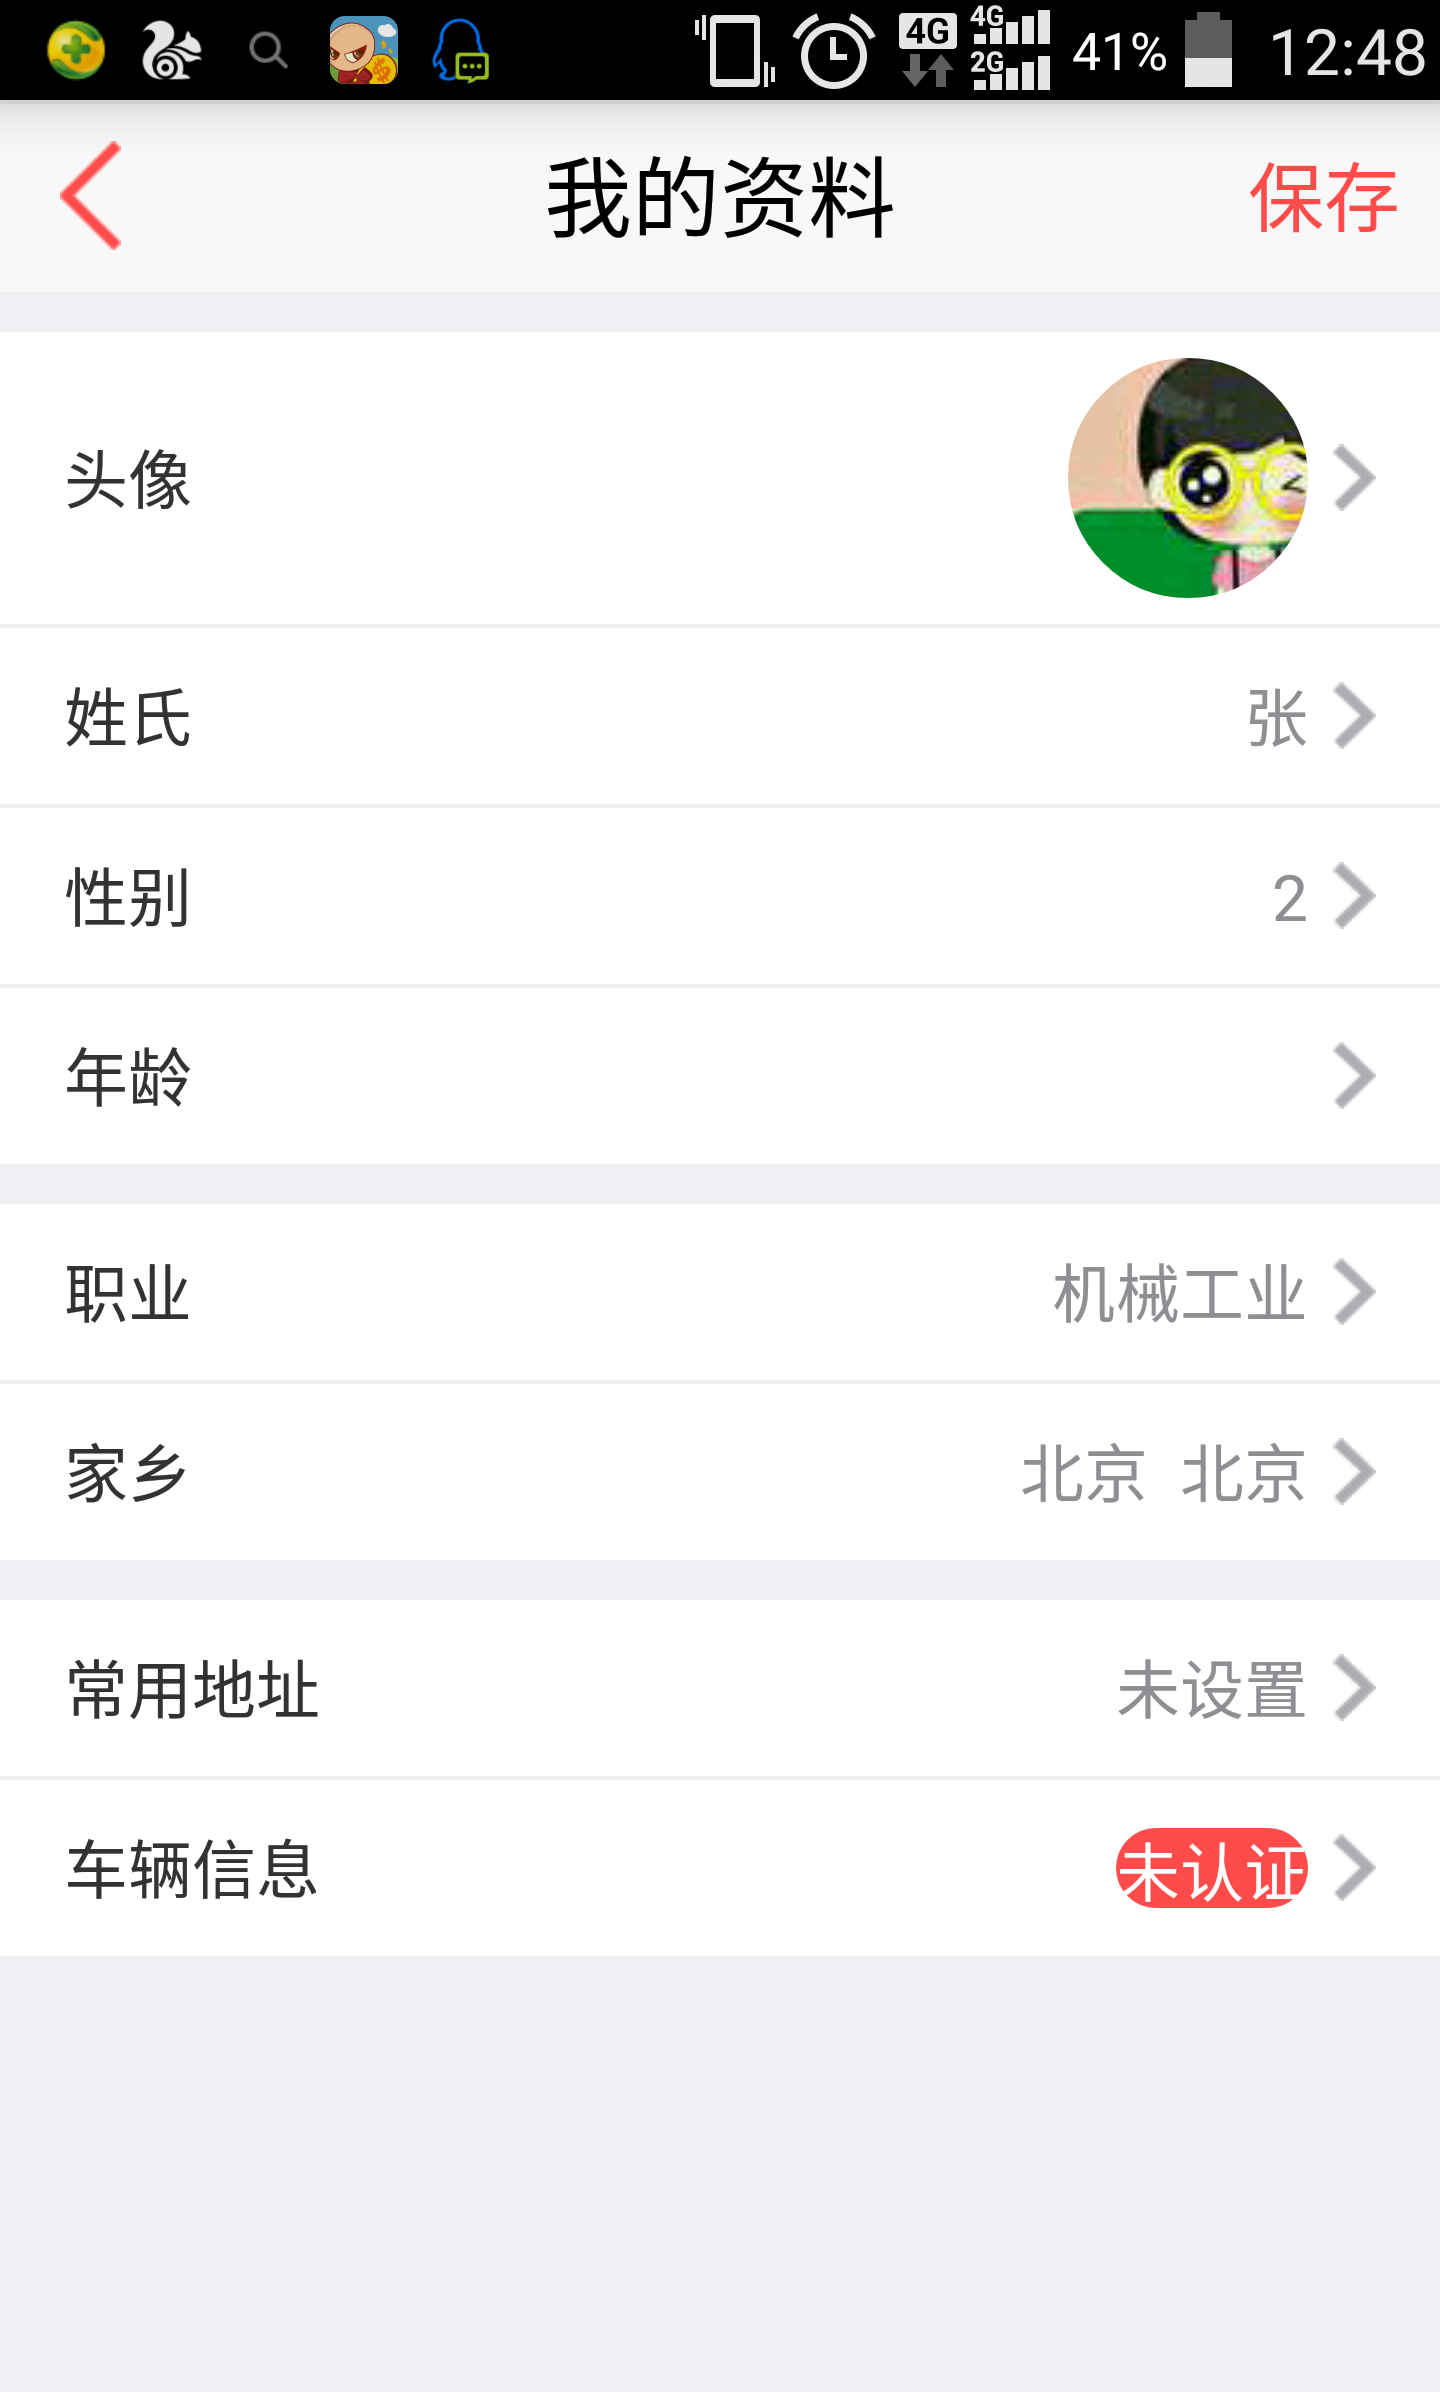button: (1233, 142, 1411, 267)
imgbutton: (1319, 665, 1390, 776)
imgview: (1039, 347, 1324, 612)
textview: (2, 326, 1437, 1565), (2, 1592, 1438, 1967)
